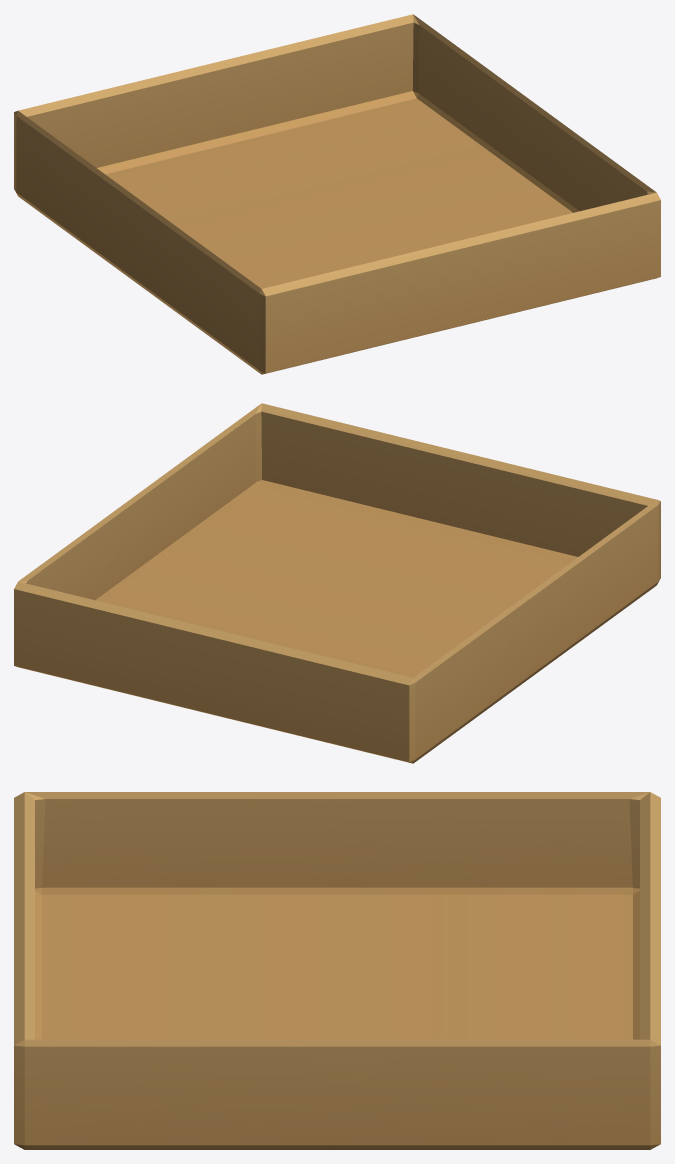
File: Drawer1.fbx
3 views of the same model, one above another, from view 1: azimuth 30°, elevation 25°; view 2: azimuth 150°, elevation 25°; view 3: azimuth 270°, elevation 25° (orthographic). The views are drawn at different scales.
Visible parts, largest first — view 1: DresserDrawer1; view 2: DresserDrawer1; view 3: DresserDrawer1.
Part boxes in pixels (box(x1,y1,x2,y2)): DresserDrawer1: box(14, 14, 660, 374); DresserDrawer1: box(14, 403, 660, 763); DresserDrawer1: box(14, 792, 660, 1149).
Size of the model in its own units: 131 by 26.98 by 144.
Materials: 1 (1 with a texture image).
